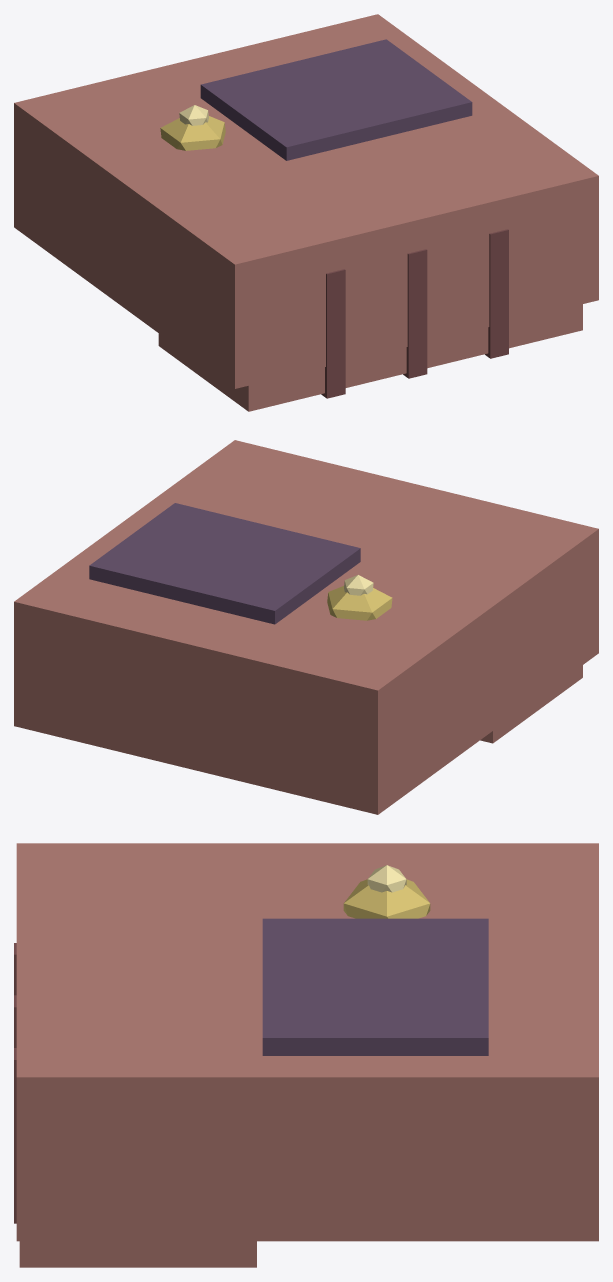
The model's file is inf_walker_hand.fbx.
3 views of the same model, one above another, from view 1: azimuth 30°, elevation 25°; view 2: azimuth 150°, elevation 25°; view 3: azimuth 270°, elevation 25° (orthographic). The views are drawn at different scales.
Visible parts, largest first — view 1: inf_walker_hand; view 2: inf_walker_hand; view 3: inf_walker_hand.
Part boxes in pixels (<box>): inf_walker_hand: <box>14,14,598,411</box>; inf_walker_hand: <box>14,440,598,814</box>; inf_walker_hand: <box>14,843,598,1267</box>.
Size of the model in its own units: 98 by 48.35 by 104.
